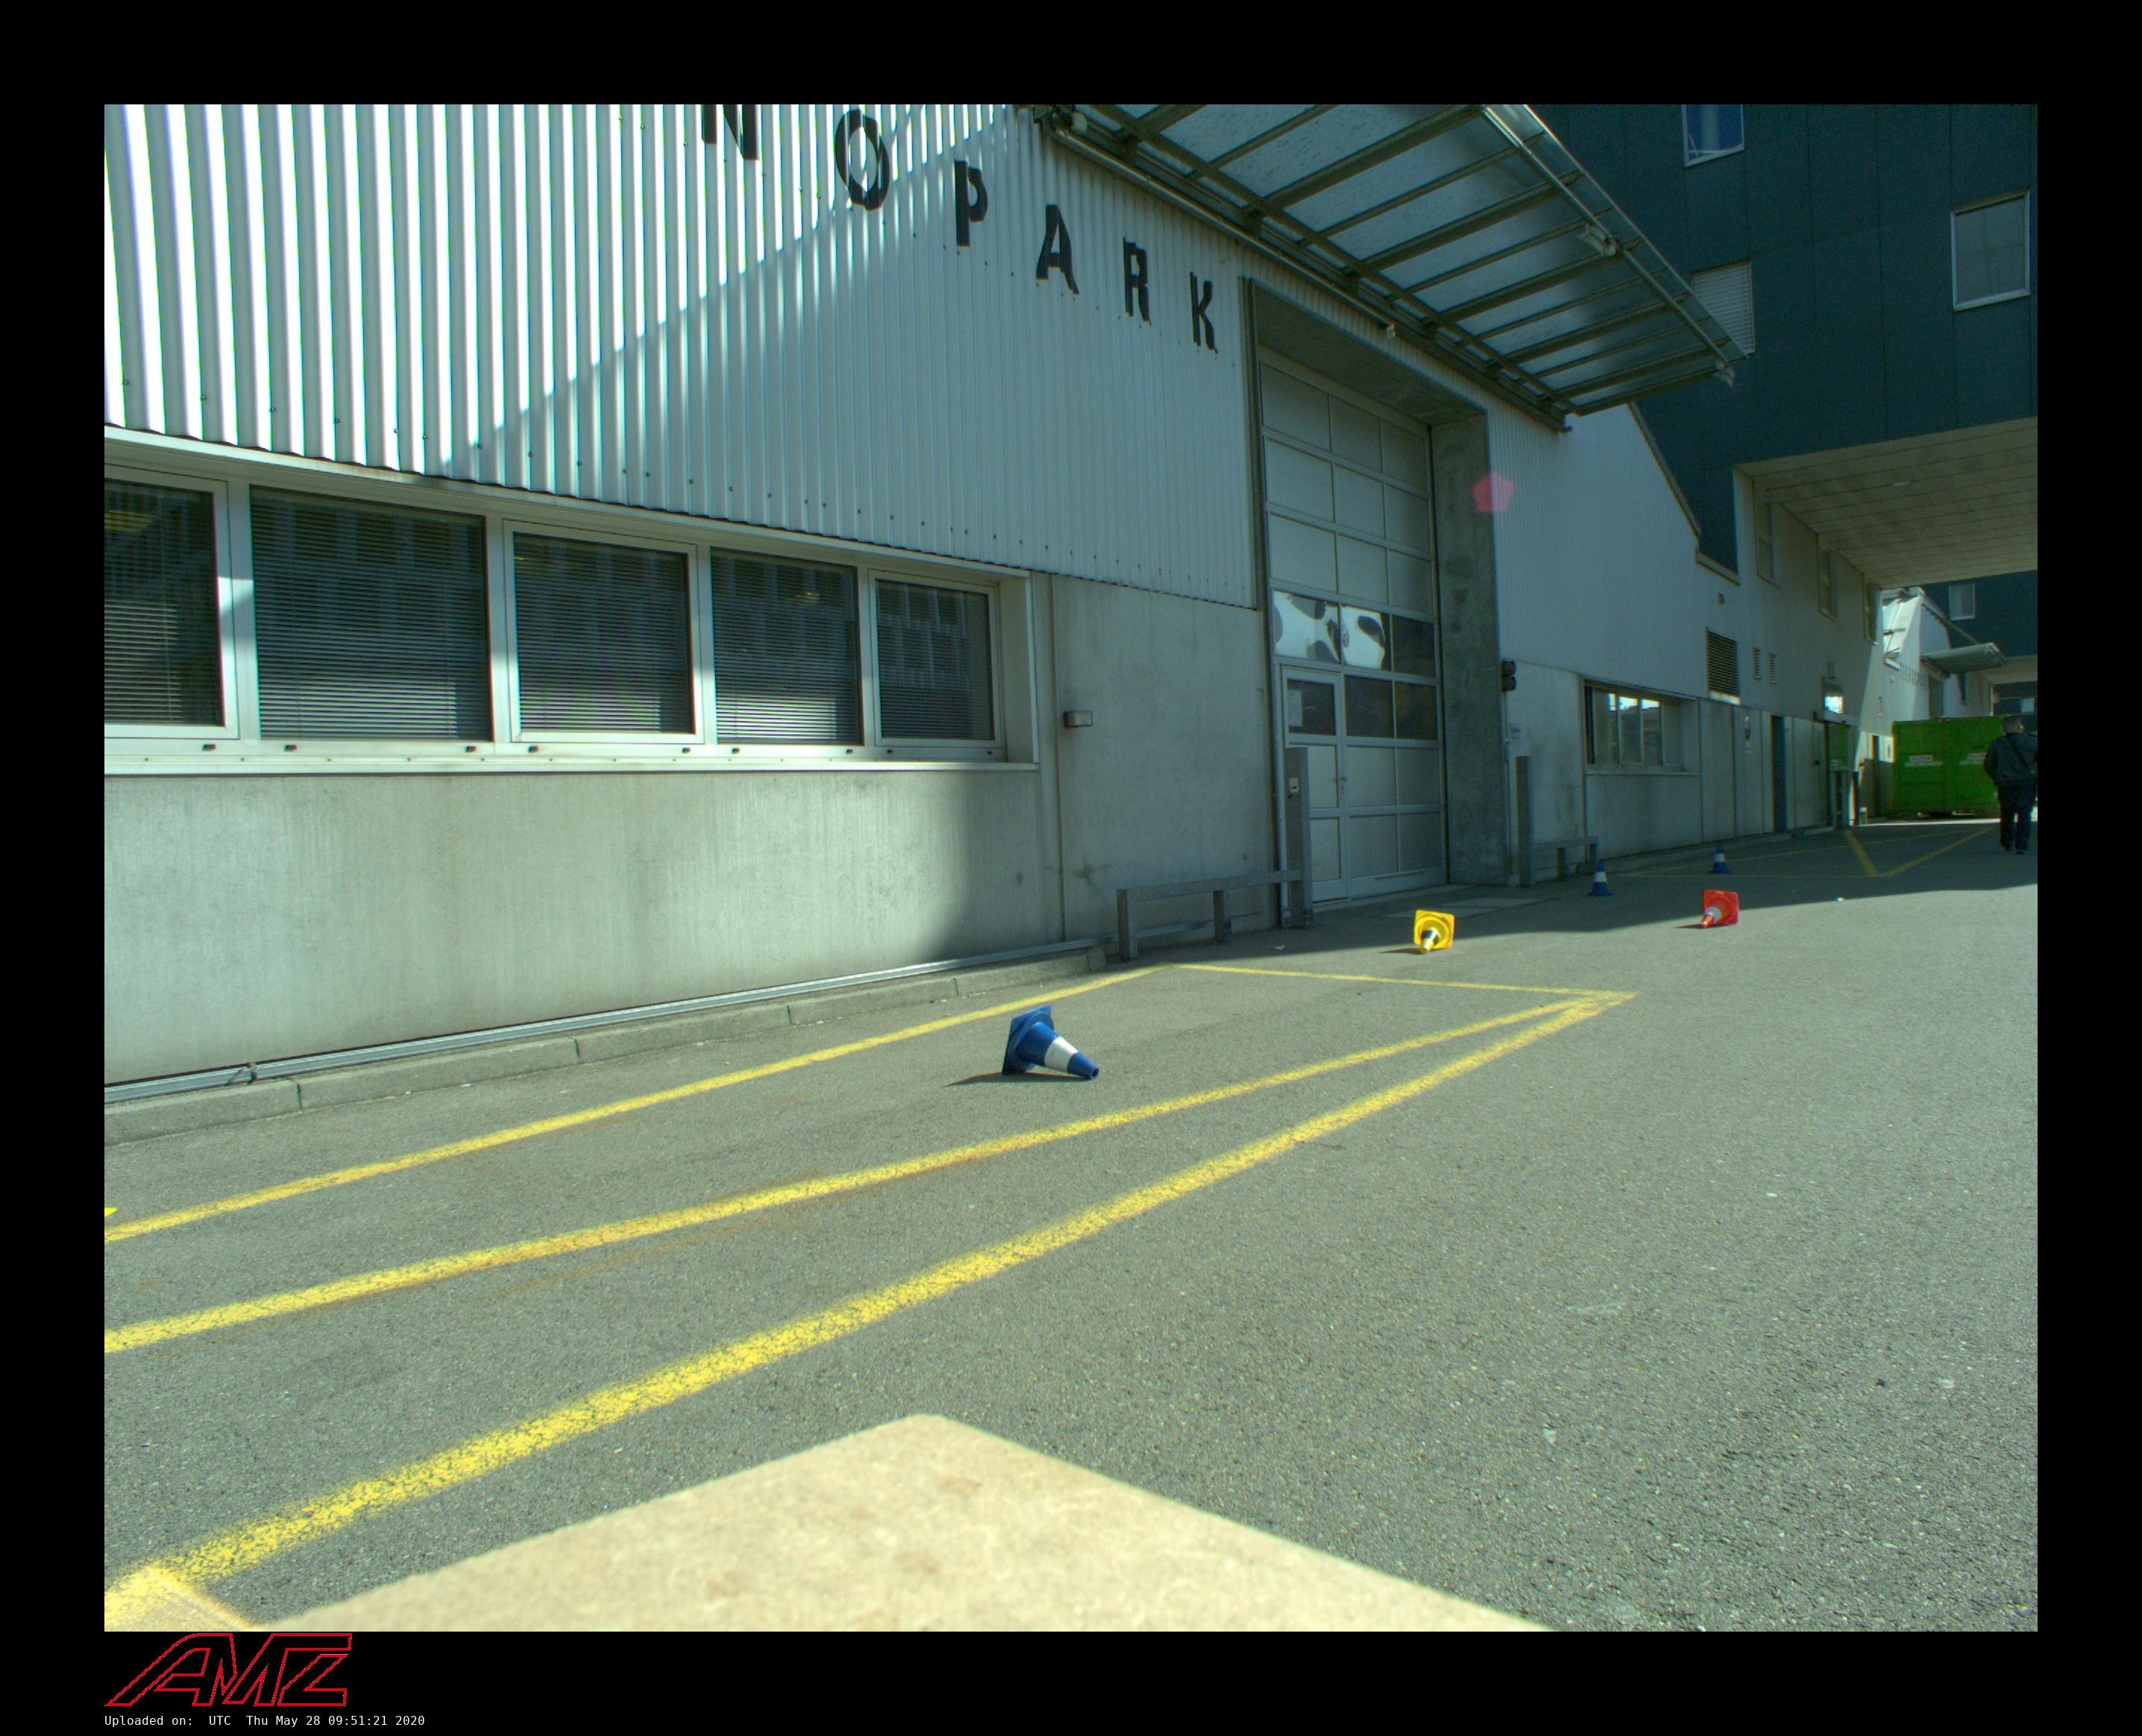blue_cone: (1001, 1004, 1098, 1081), (1587, 863, 1614, 896), (1708, 845, 1731, 875)
orange_cone: (1701, 889, 1738, 930)
yellow_cone: (1414, 911, 1455, 953)
